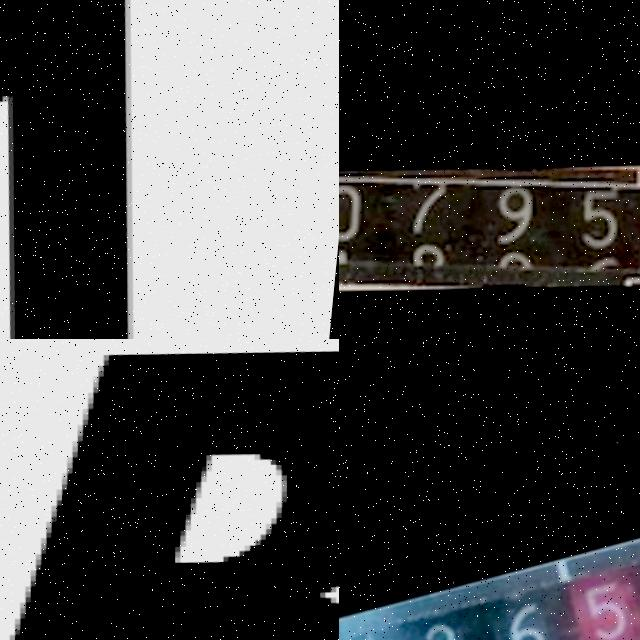0: (339, 176, 370, 239)
1: (0, 0, 185, 339)
3: (415, 605, 477, 640)
5: (581, 565, 640, 640), (577, 174, 630, 247)
6: (500, 585, 561, 640)
7: (405, 169, 458, 237)
9: (487, 176, 546, 242)
B: (14, 342, 339, 640)
